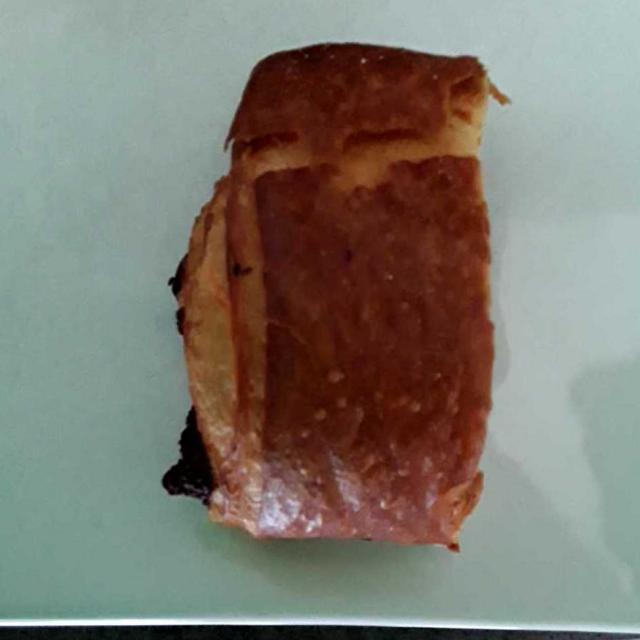croissant-with-chocolate-filling: (177, 46, 494, 537)
